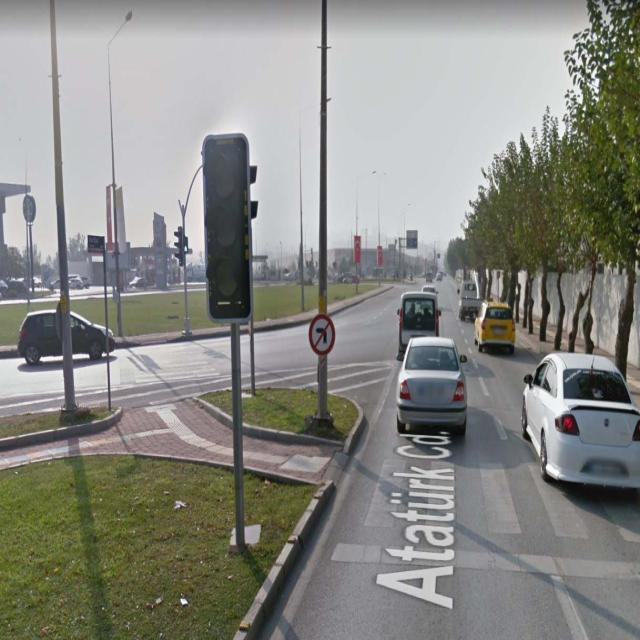soladonulmez: (309, 315, 336, 354)
